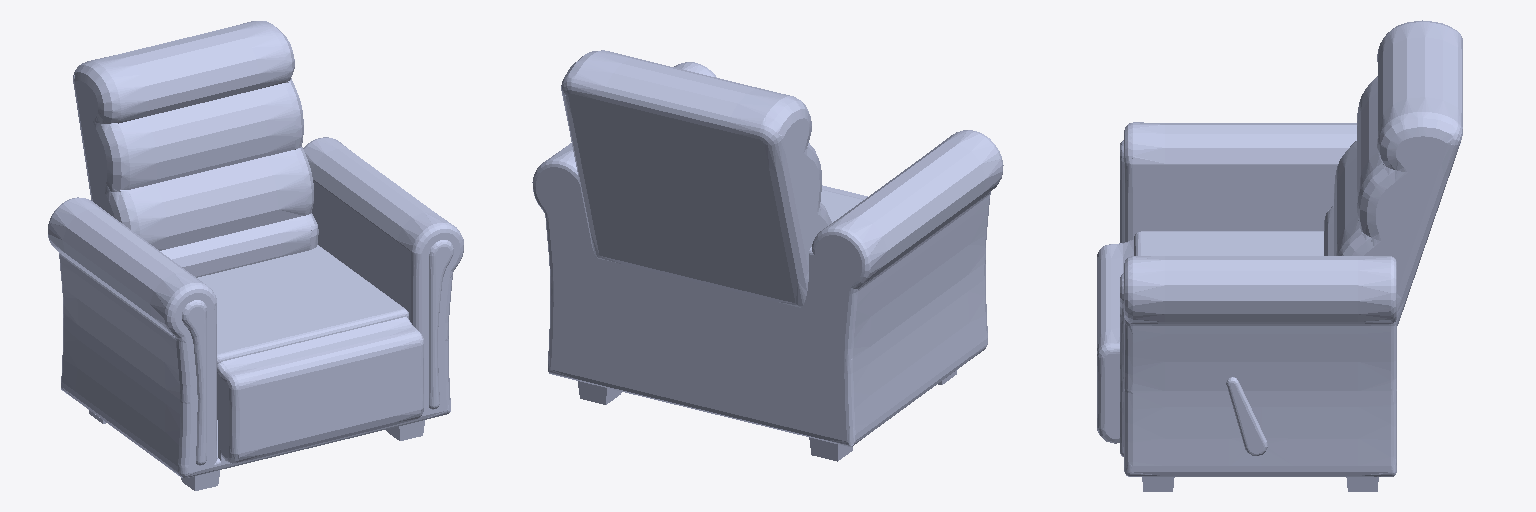
robot.urdf — recliner_lazyboy:
<robot
  name="recliner_lazyboy">
  <link
    name="recliner_lazyboy">
    <inertial>
      <origin
        xyz="0.48331 0.47807 0.40345"
        rpy="0 0 0" />
      <mass
        value="482.89" />
      <inertia
        ixx="74.6062045839168"
        ixy="-0.0244532774429457"
        ixz="-0.0391714914771899"
        iyy="84.2910522162311"
        iyz="-18.7204404268122"
        izz="88.7409429056383" />
    </inertial>
    <visual>
      <origin
        xyz="0 0 0"
        rpy="0 0 0" />
      <geometry>
        <mesh
          filename="package://recliner_lazyboy/meshes/recliner_lazyboy.dae" />
      </geometry>
      <material
        name="">
        <color
          rgba="0.79216 0.81961 0.93333 1" />
      </material>
    </visual>
    <collision>
      <origin
        xyz="0 0 0"
        rpy="0 0 0" />
      <geometry>
        <mesh
          filename="package://recliner_lazyboy/meshes/recliner_lazyboy.dae" />
      </geometry>
    </collision>
  </link>
</robot>

--- What the picture shows (computed from the rendered views, not written in the file) ---
Views: 3 orthographic renders of the robot side by side, from view 1: azimuth 30°, elevation 25°; view 2: azimuth 150°, elevation 25°; view 3: azimuth 270°, elevation 25°.
Model recliner_lazyboy with 1 links and 0 joints (none), rooted at recliner_lazyboy, posed every joint at zero.
Visible links, largest first — view 1: recliner_lazyboy; view 2: recliner_lazyboy; view 3: recliner_lazyboy.
Link boxes in pixels (x1,y1,x2,y2): recliner_lazyboy: [48, 21, 463, 490]; recliner_lazyboy: [532, 50, 1003, 461]; recliner_lazyboy: [1097, 20, 1462, 491].
Size in the robot's own frame: 1.14 by 1.09 by 1.19 metres.
Meshes: 1 distinct files referenced, 1 mesh visuals loaded (1 Collada DAE).